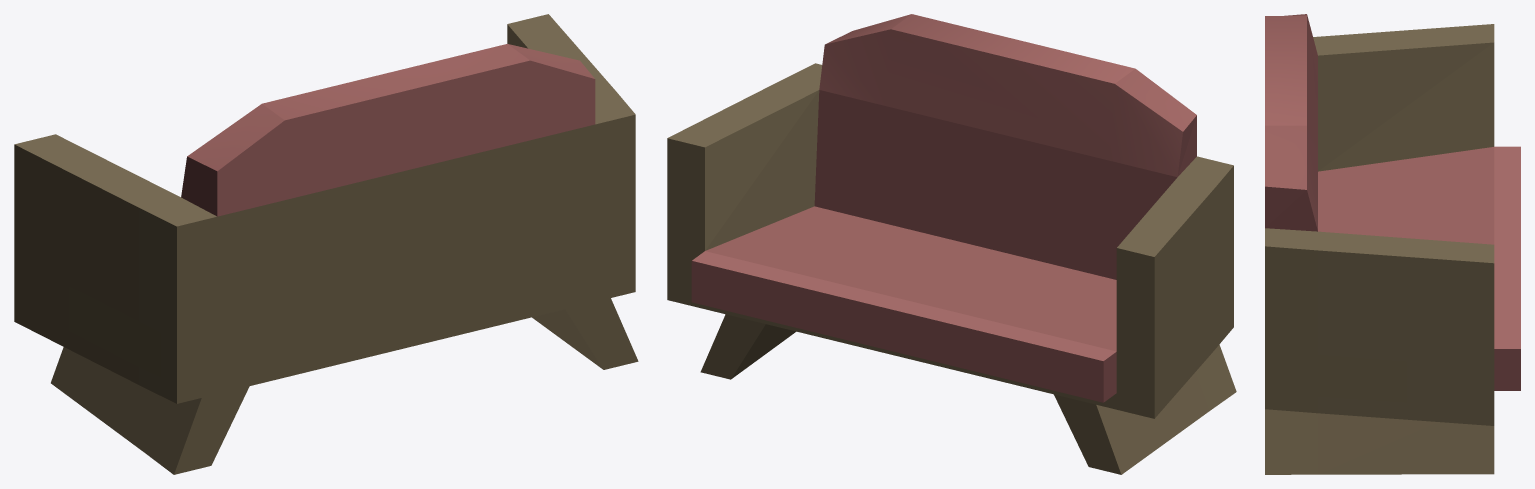
File: Prop_Couch_06.fbx
The picture shows the model from 3 angles, left to right: view 1: azimuth 30°, elevation 25°; view 2: azimuth 150°, elevation 25°; view 3: azimuth 270°, elevation 25°; orthographic projection. The views are drawn at different scales.
Visible parts, largest first — view 1: Couch_01; view 2: Couch_01; view 3: Couch_01.
Boxes of the visible parts, x1,y1,x2,y2 form: Couch_01: (14, 14, 638, 474); Couch_01: (667, 14, 1236, 474); Couch_01: (1265, 14, 1520, 474).
Size of the model in its own units: 110 by 49.61 by 64.33.
Materials: 1 (1 with a texture image).
